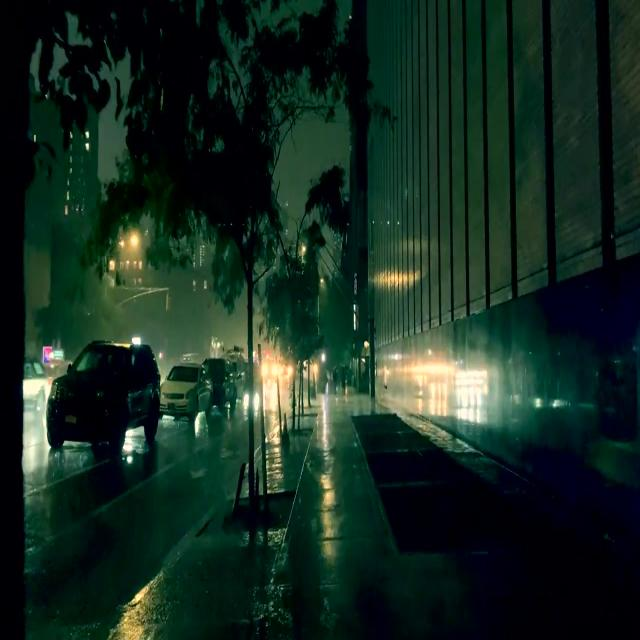Car: (47, 340, 156, 447), (160, 362, 209, 423)
